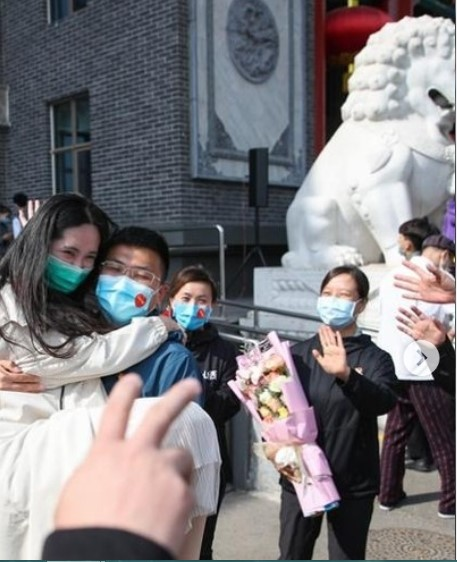face_with_mask: (24, 201, 107, 307), (97, 230, 170, 331), (316, 266, 373, 335), (173, 270, 218, 336)
